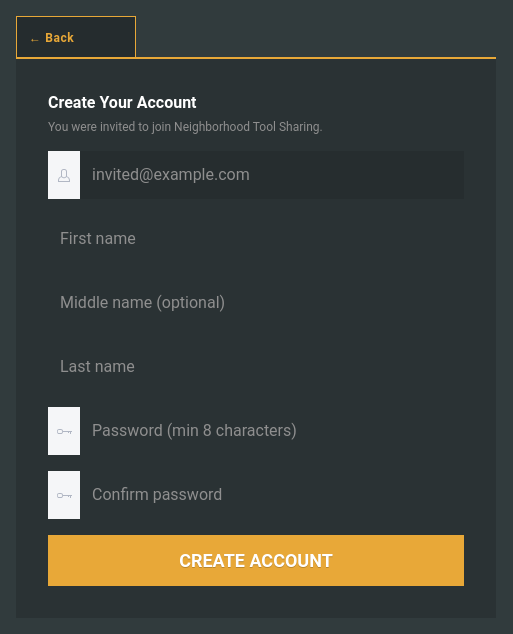
it: Register › shows an error when the password has no uppercase letter
Check: the field showing "invited@example.com" is shown, box [80,151,464,199]
Type "Ada" into the field with placeholder "First name" at (256, 239), box [48,215,464,263]
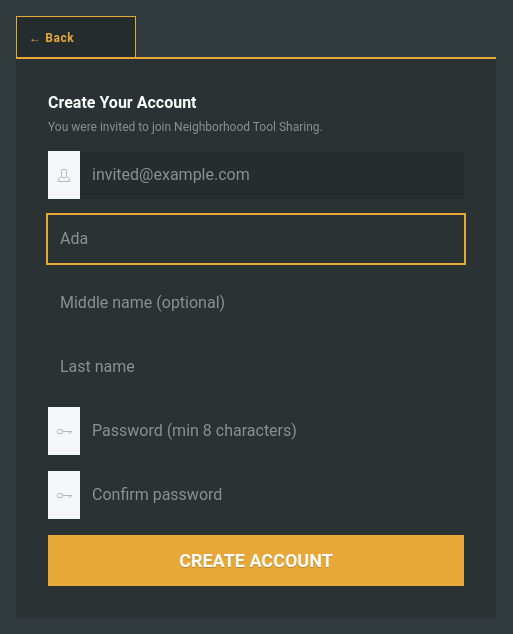
Type "Lovelace" into the field with placeholder "Last name" at (256, 367), box [48,343,464,391]
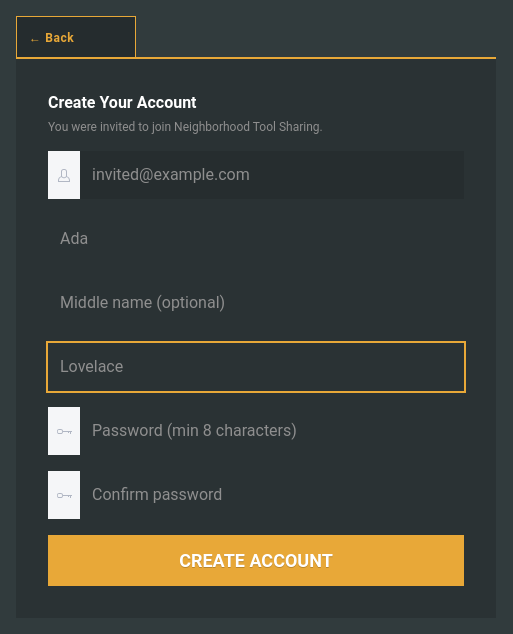
Type "weakpass1!" into the password field with placeholder "Password (min 8 characters)" at (272, 431), box [80,407,464,455]
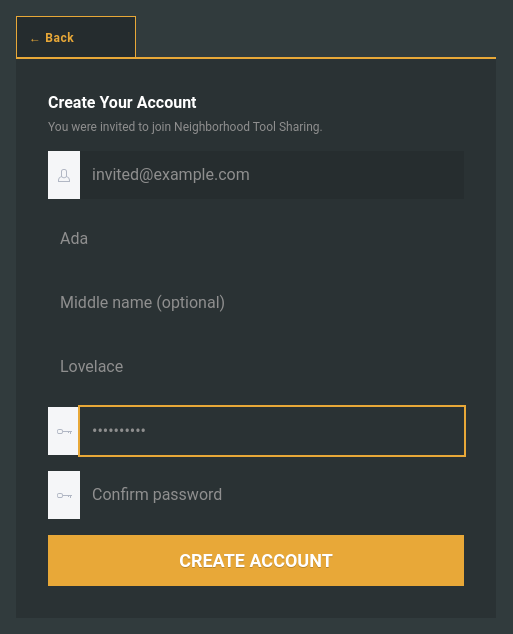
Type "weakpass1!" into the password field with placeholder "Confirm password" at (272, 495), box [80,471,464,519]
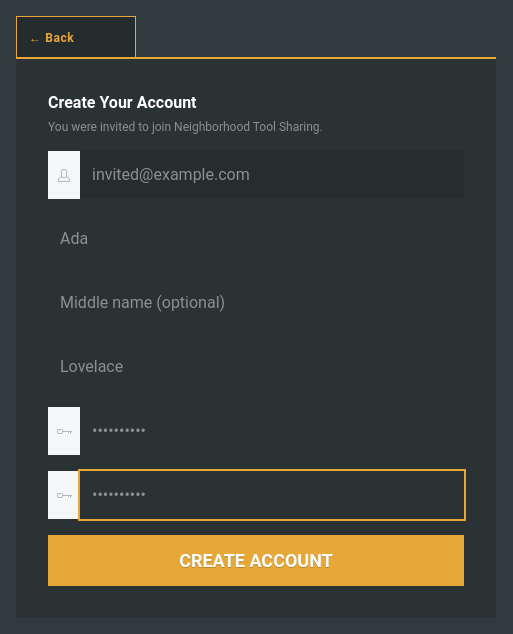
Click the button "CREATE ACCOUNT" at (256, 560), box [48,535,464,586]
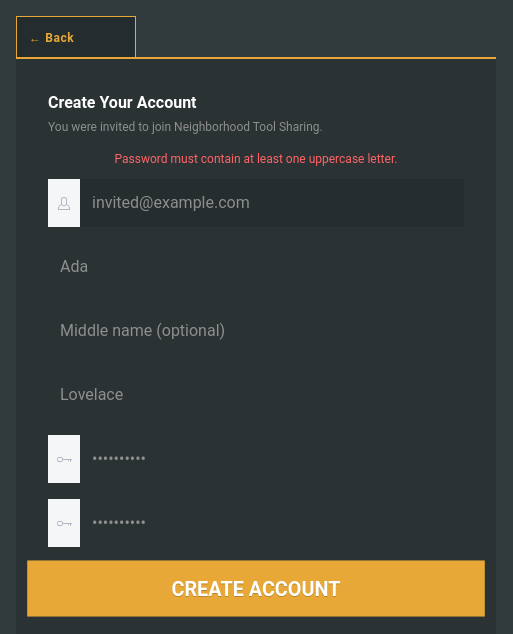
Check: the text "Password must contain at least one uppercase letter." is shown, box [115,152,397,166]
